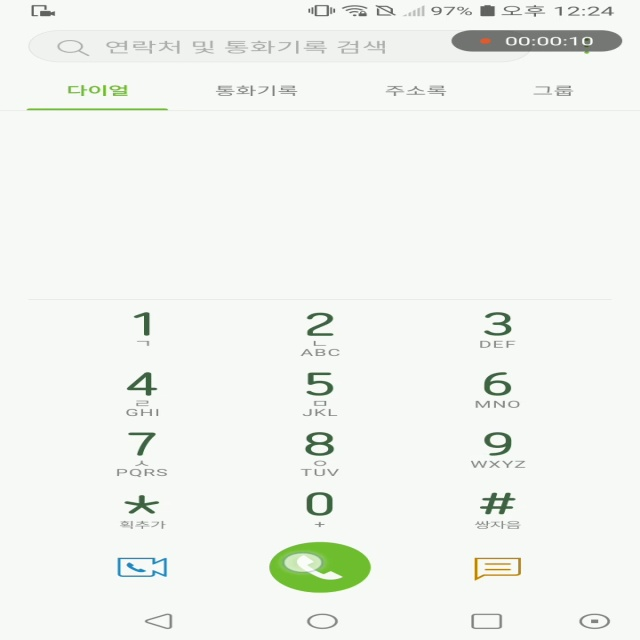Cursor: (280, 552, 325, 574)
